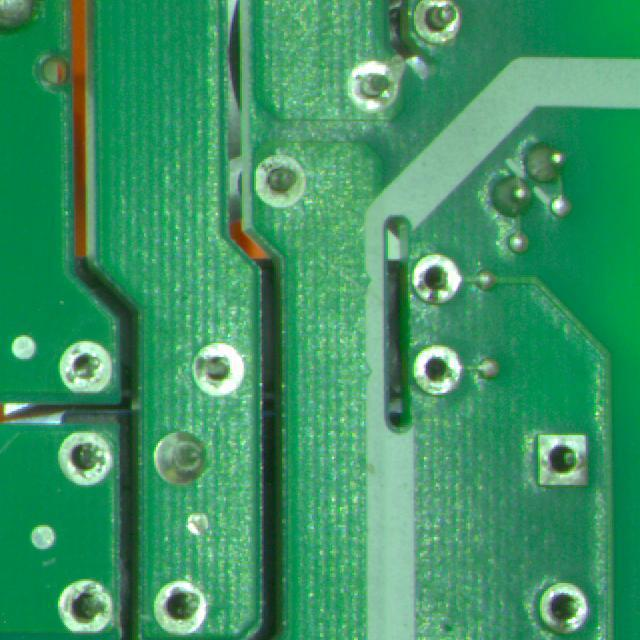Insufficient solder: (530, 420, 594, 497), (251, 145, 311, 215), (55, 336, 120, 400), (53, 427, 115, 492), (149, 574, 210, 636), (342, 55, 400, 119), (54, 577, 117, 635), (533, 578, 593, 638), (410, 244, 463, 309), (408, 338, 465, 395), (189, 343, 246, 398), (411, 1, 462, 48)
